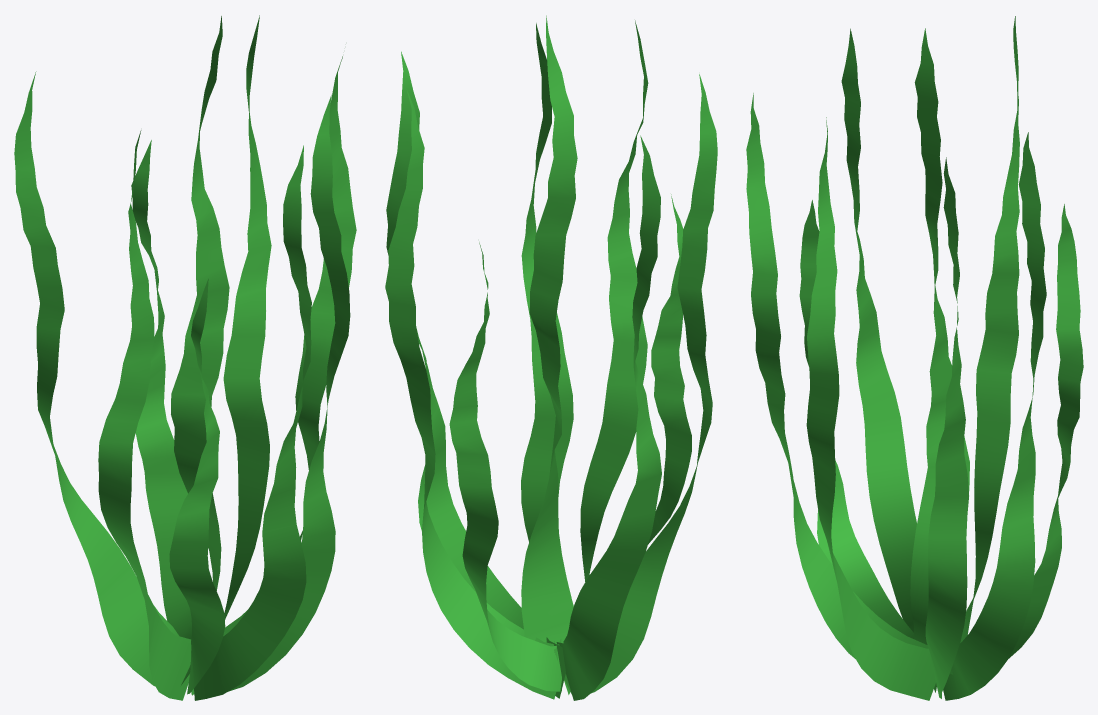
Rendered from coral_kelp_crown_A_medium.fbx.
3 renders of one model, left to right at view 1: azimuth 30°, elevation 25°; view 2: azimuth 150°, elevation 25°; view 3: azimuth 270°, elevation 25°, orthographic.
Visible parts, largest first — view 1: coral_kelp_crown_A_medium; view 2: coral_kelp_crown_A_medium; view 3: coral_kelp_crown_A_medium.
Part boxes in pixels (<box>): coral_kelp_crown_A_medium: <box>14,15,356,700</box>; coral_kelp_crown_A_medium: <box>385,15,717,700</box>; coral_kelp_crown_A_medium: <box>746,16,1083,700</box>.
Size of the model in its own units: 61.41 by 129 by 57.89.
